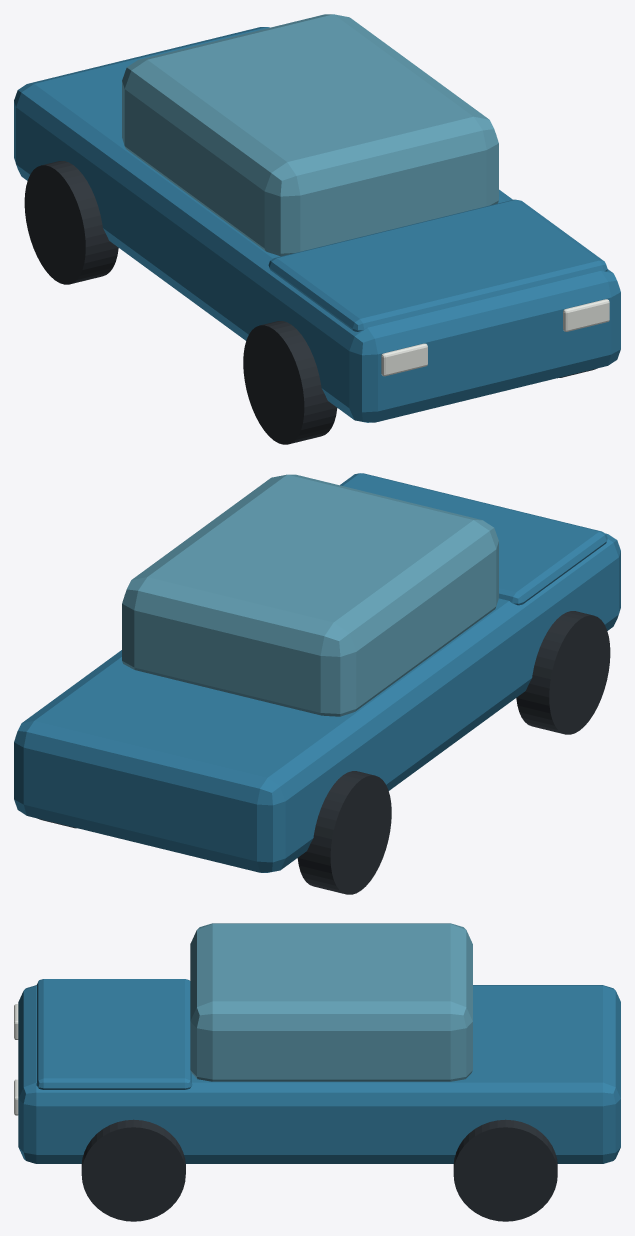
The model's file is Car.fbx.
3 renders of one model, top to bottom at view 1: azimuth 30°, elevation 25°; view 2: azimuth 150°, elevation 25°; view 3: azimuth 270°, elevation 25°, orthographic. The views are drawn at different scales.
Visible parts, largest first — view 1: Cabin, Chassis, Hood, Tyre, Tyre.001, Headlight, Headlight.001; view 2: Chassis, Cabin, Hood, Tyre, Tyre.001; view 3: Chassis, Cabin, Hood, Tyre.002, Tyre.003.
Boxes of the visible parts, x1,y1,x2,y2 form: Cabin: [122, 14, 498, 256]; Chassis: [14, 27, 620, 422]; Hood: [268, 199, 607, 331]; Tyre: [243, 321, 337, 444]; Tyre.001: [24, 161, 118, 284]; Headlight: [381, 343, 427, 376]; Headlight.001: [563, 299, 609, 331]; Chassis: [14, 533, 620, 872]; Cabin: [122, 474, 498, 716]; Hood: [340, 473, 607, 605]; Tyre: [516, 611, 610, 734]; Tyre.001: [297, 771, 391, 894]; Chassis: [18, 985, 620, 1163]; Cabin: [190, 923, 472, 1081]; Hood: [36, 979, 192, 1089]; Tyre.002: [81, 1119, 185, 1221]; Tyre.003: [453, 1119, 557, 1221].
Size of the model in its own units: 202 by 145 by 408.
